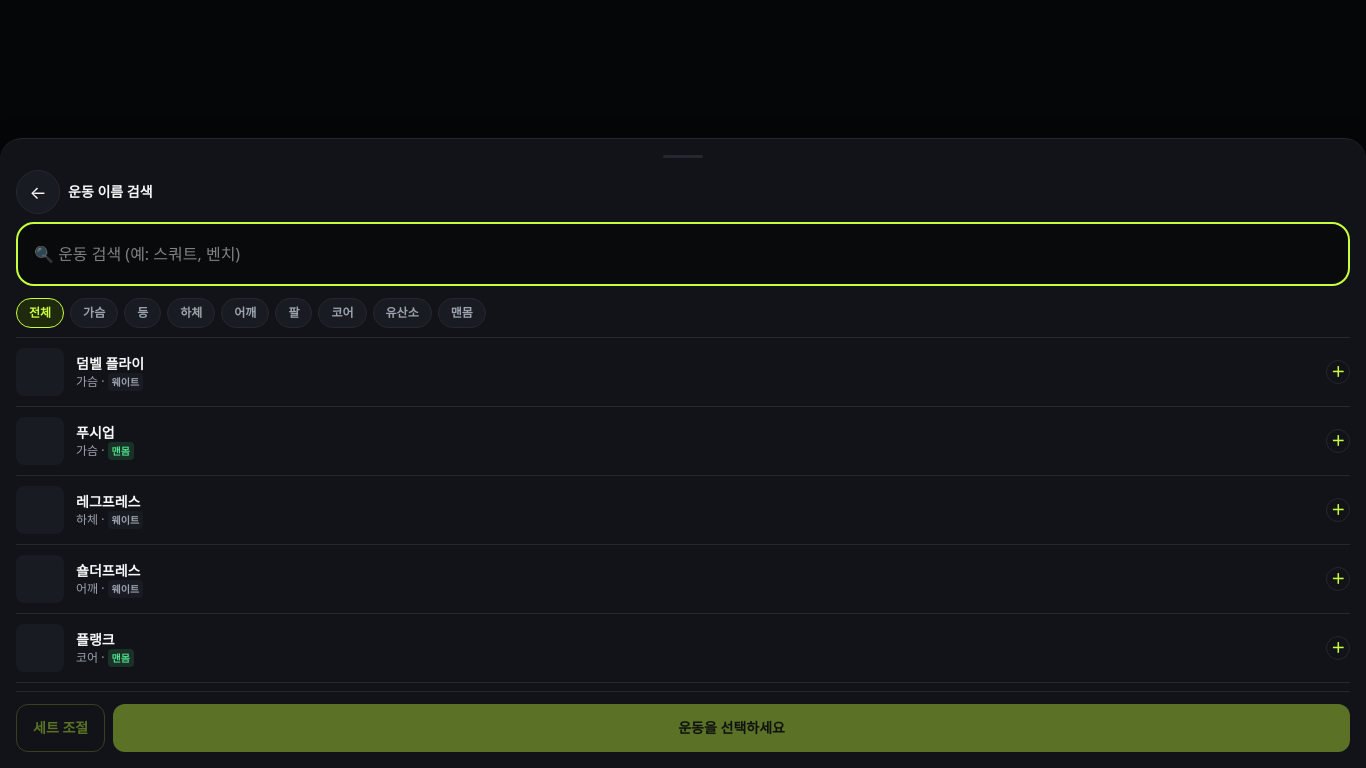
2단계 (2026-10-05) › 바꾸기가 아니면 여러 개를 고른다 (부정 확인)
(page scrolled)
Click the text "레그프레스". click: x=108, y=501
box: [76,492,140,510]
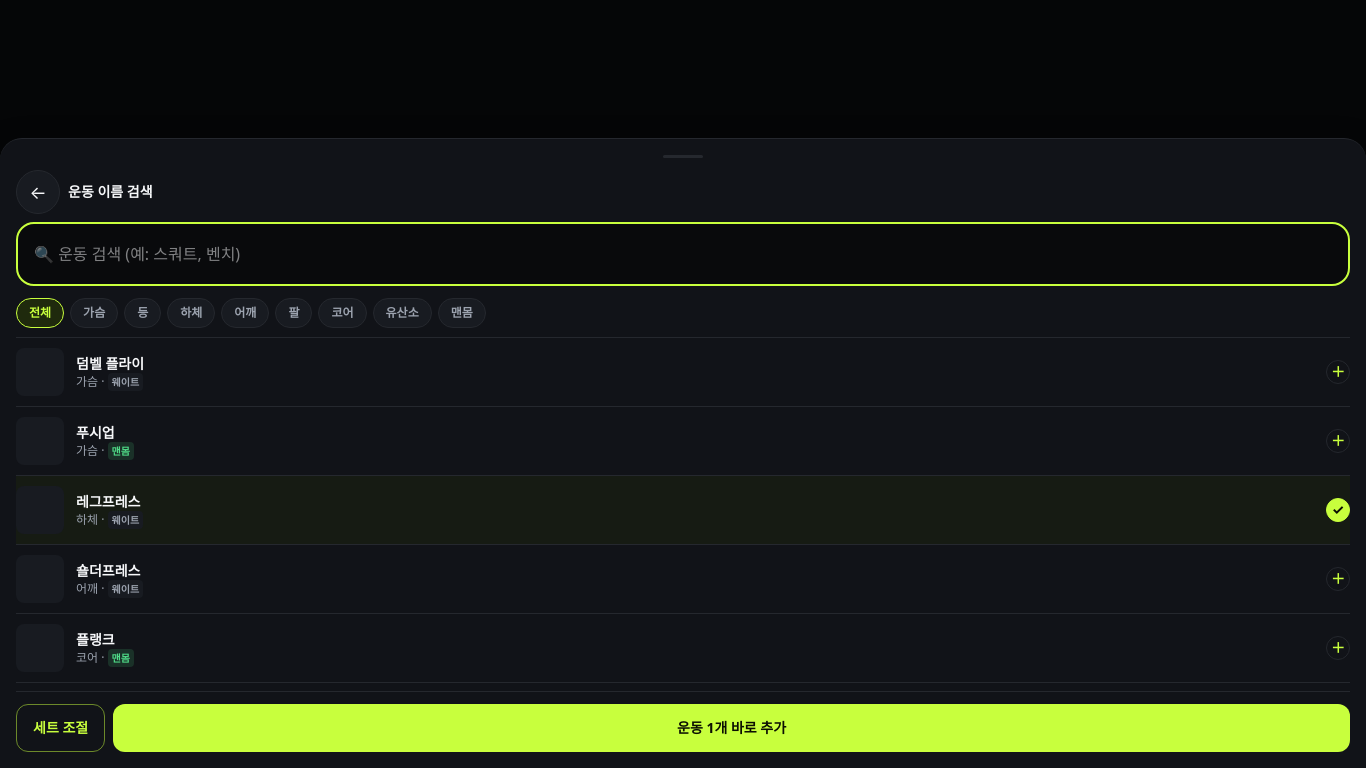
Click the text "숄더프레스". click: x=108, y=570
box: [76,560,140,580]
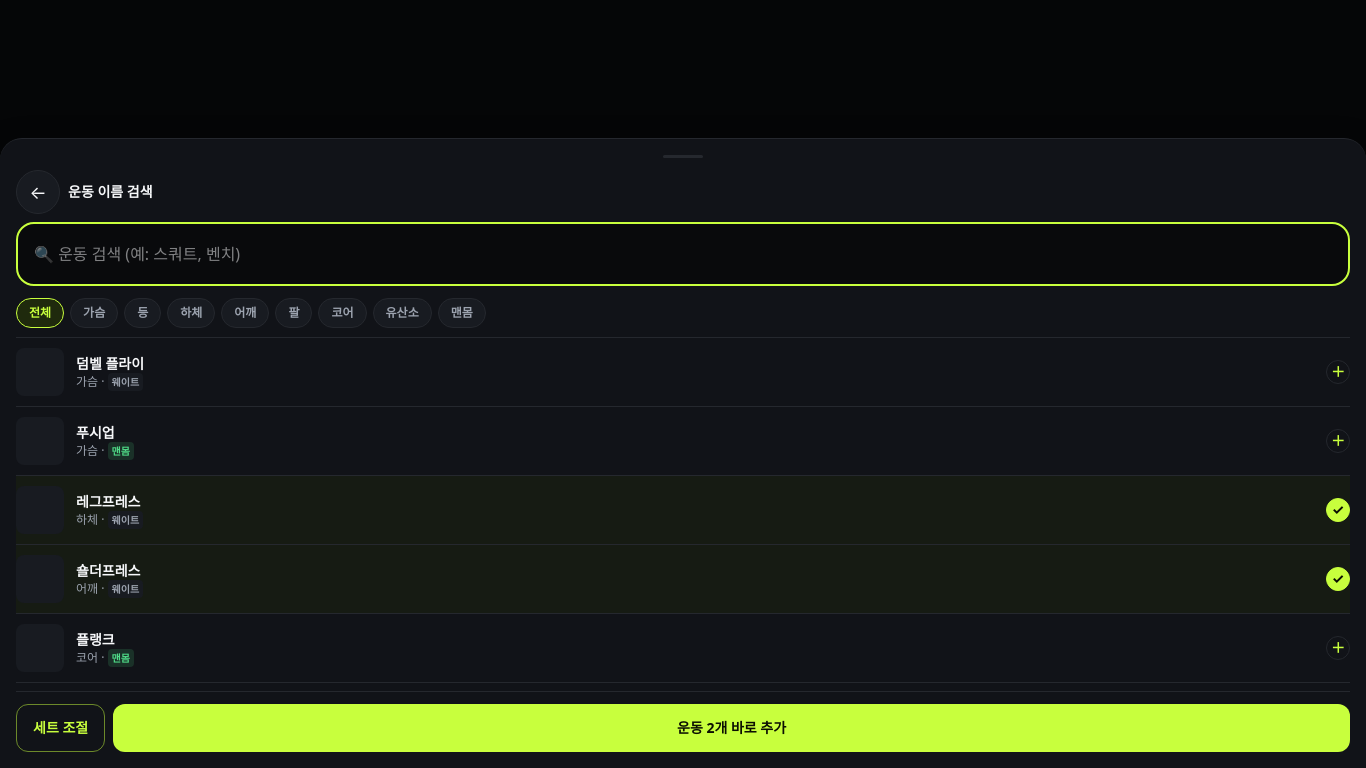
Expected: the button "운동 2개 바로 추가" is shown, [113,704,1350,752]
